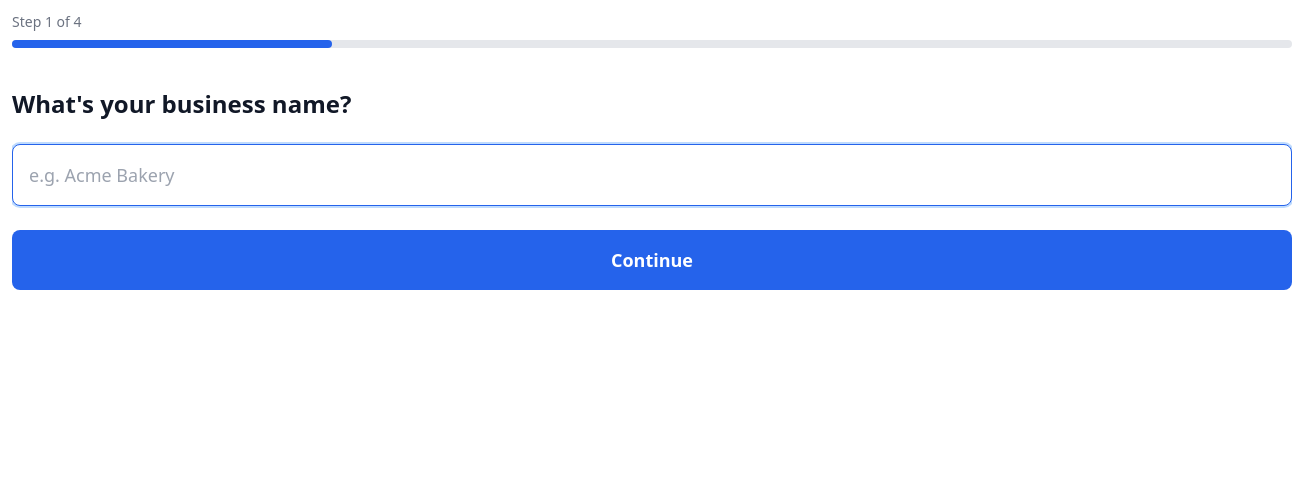
Test: BusinessIntroWizard › shows a server error message when submission fails
Step 1. Type "Acme Bakery" into the field with placeholder "e.g. Acme Bakery" → point(652, 175), box [12,144,1292,206]
Step 2. Click the button "Continue" → point(652, 260), box [12,230,1292,290]
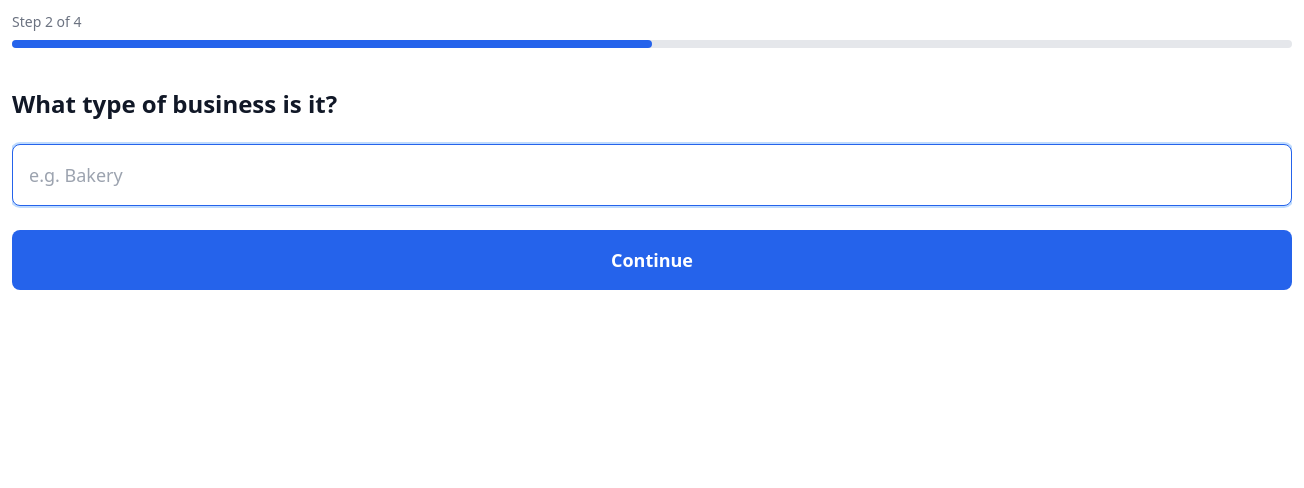
Step 3. Type "Bakery" into the field with placeholder "e.g. Bakery" → point(652, 175), box [12,144,1292,206]
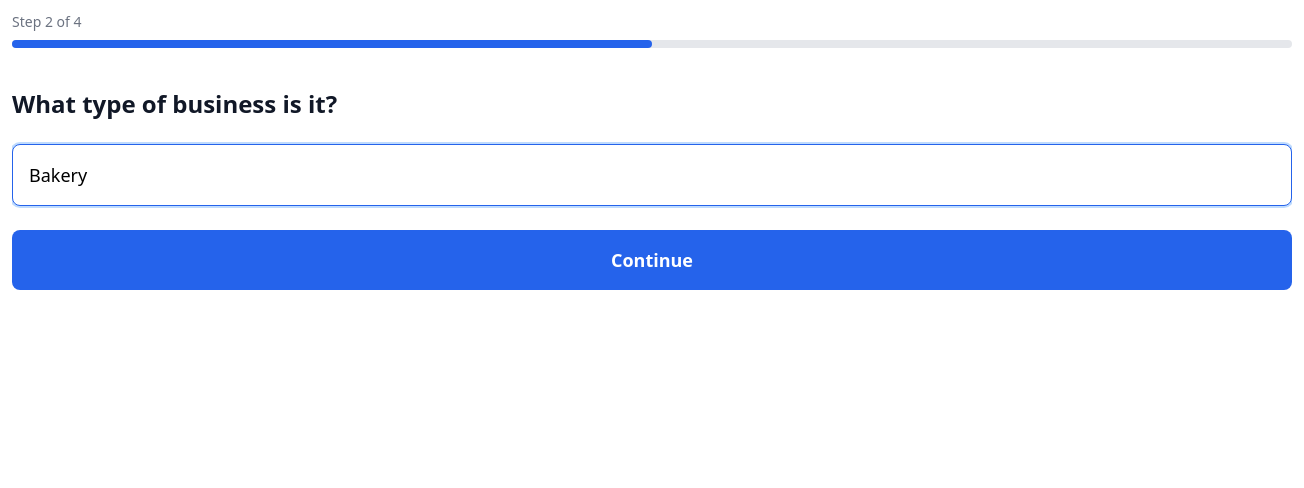
Step 4. Click the button "Continue" → point(652, 260), box [12,230,1292,290]
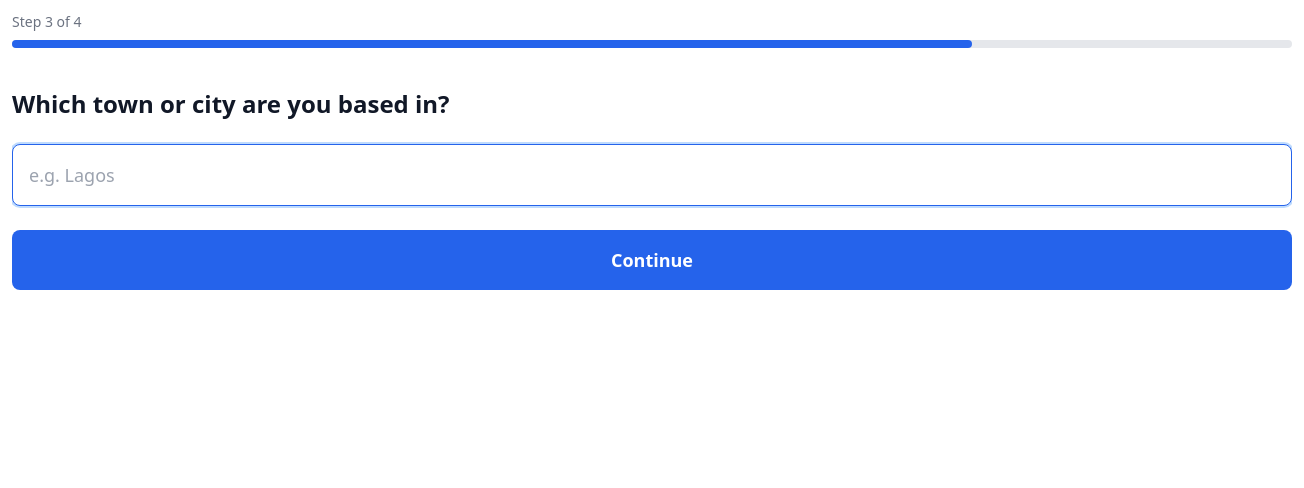
Step 5. Type "Lagos" into the field with placeholder "e.g. Lagos" → point(652, 175), box [12,144,1292,206]
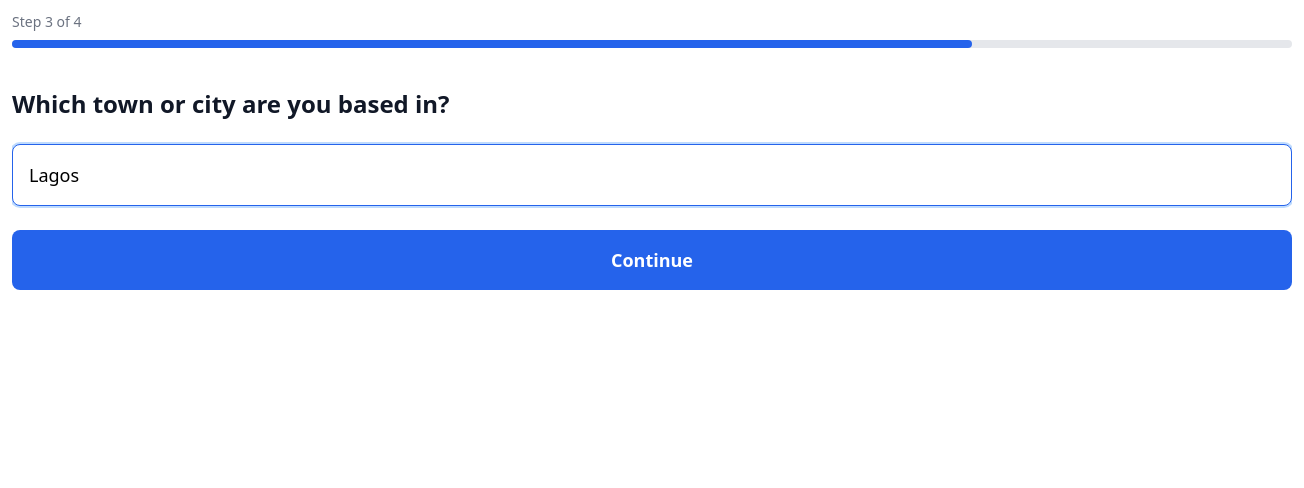
Step 6. Click the button "Continue" → point(652, 260), box [12,230,1292,290]
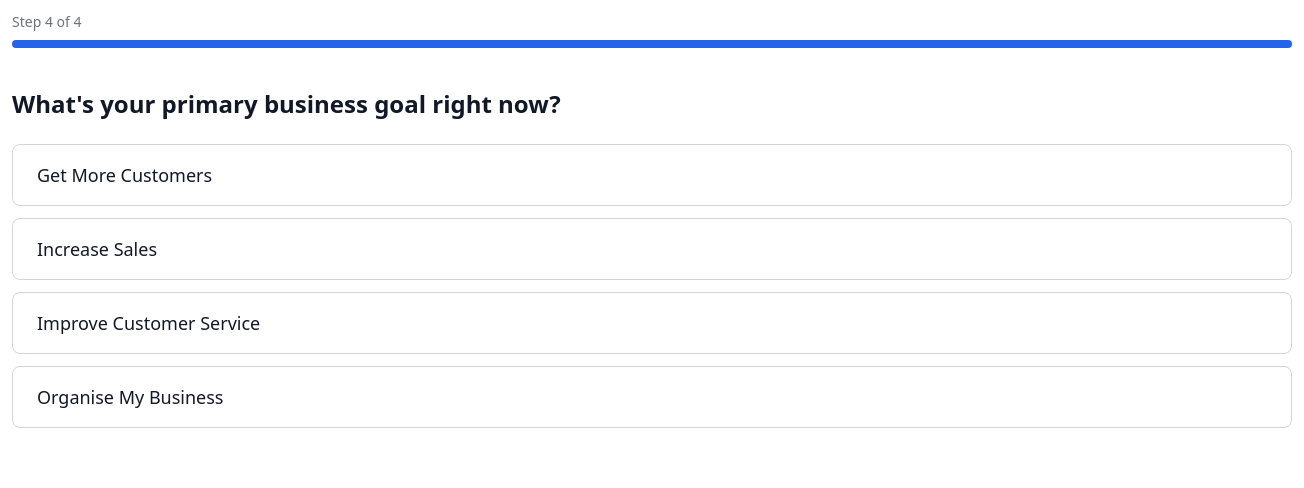
Step 7. Click the button "Increase Sales" → point(97, 249), box [12,218,1292,280]
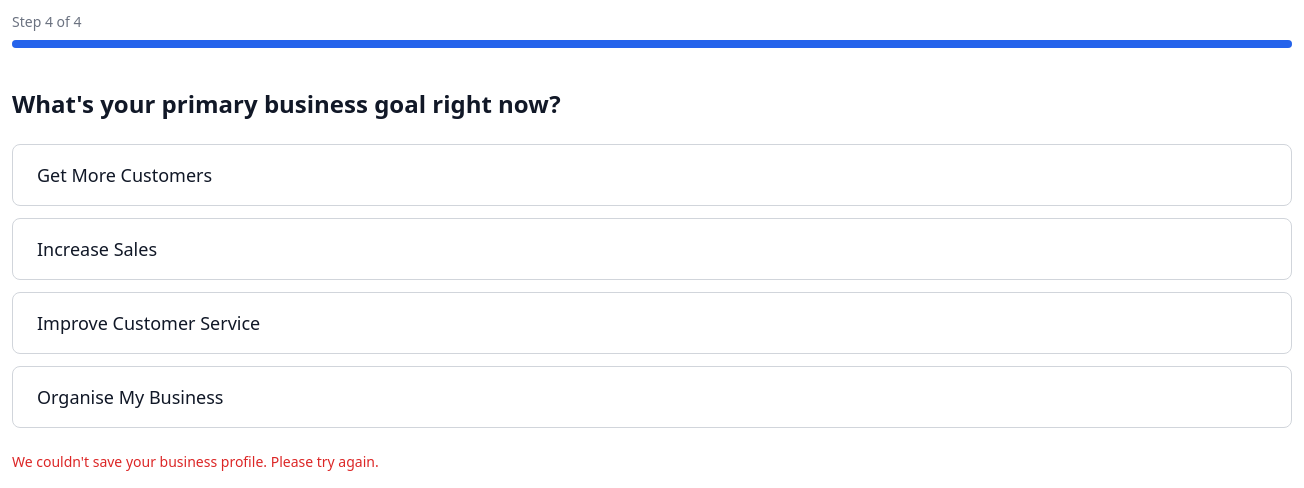
Expected: the text "We couldn't save your business profile. Please try again." is shown, [12,452,379,471]
